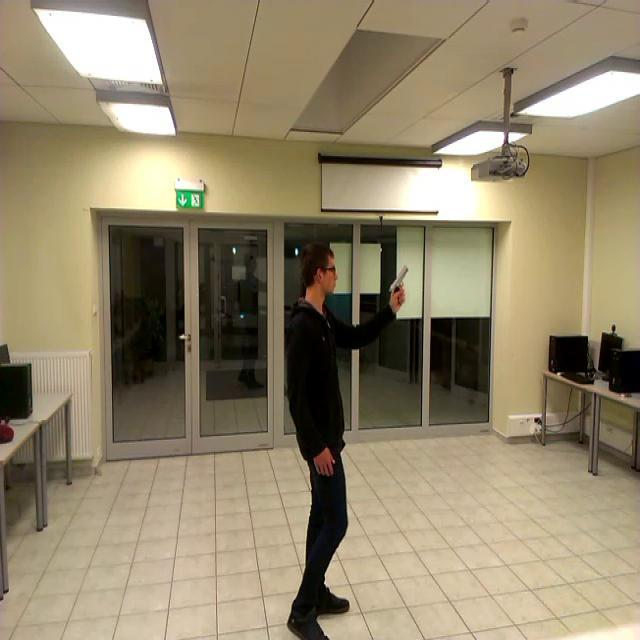Gun: (390, 264, 410, 305)
